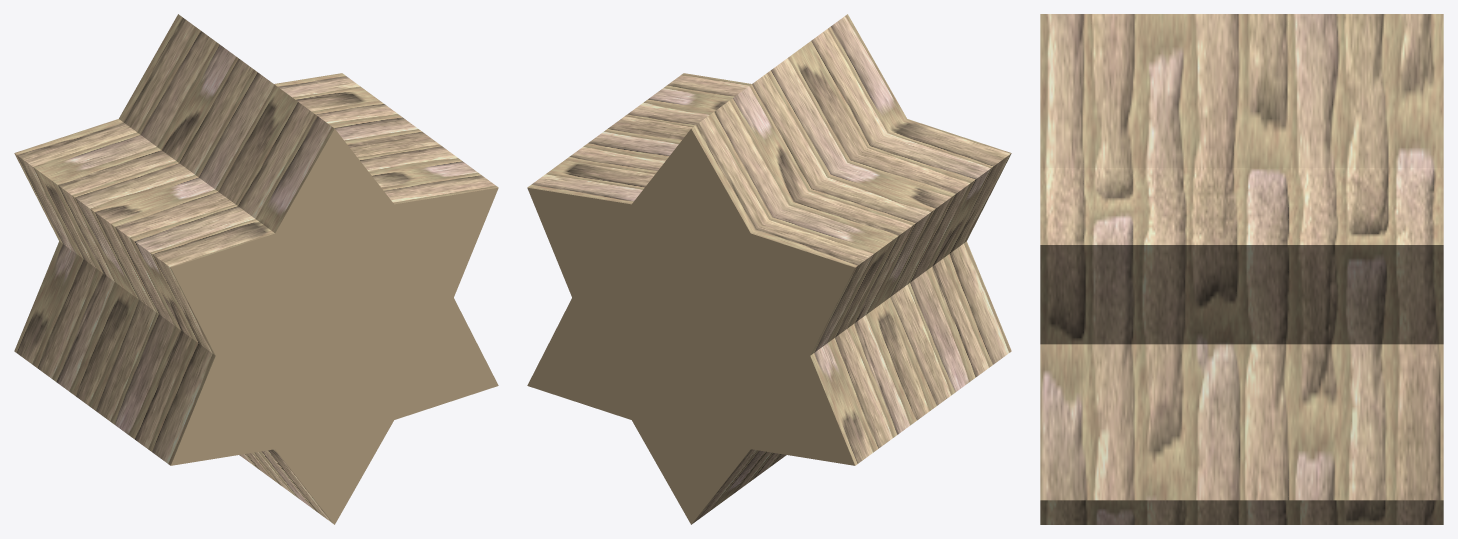
File: test_textured_map.obj
3 renders of one model, left to right at view 1: azimuth 30°, elevation 25°; view 2: azimuth 150°, elevation 25°; view 3: azimuth 270°, elevation 25°, orthographic. The views are drawn at different scales.
Visible parts, largest first — view 1: Loft001; view 2: Loft001; view 3: Loft001.
Part boxes in pixels (box(x1,y1,x2,y2)): Loft001: box(14, 14, 498, 524); Loft001: box(527, 14, 1011, 524); Loft001: box(1040, 14, 1443, 524).
Size of the model in its own units: 16.31 by 18.83 by 13.48.
